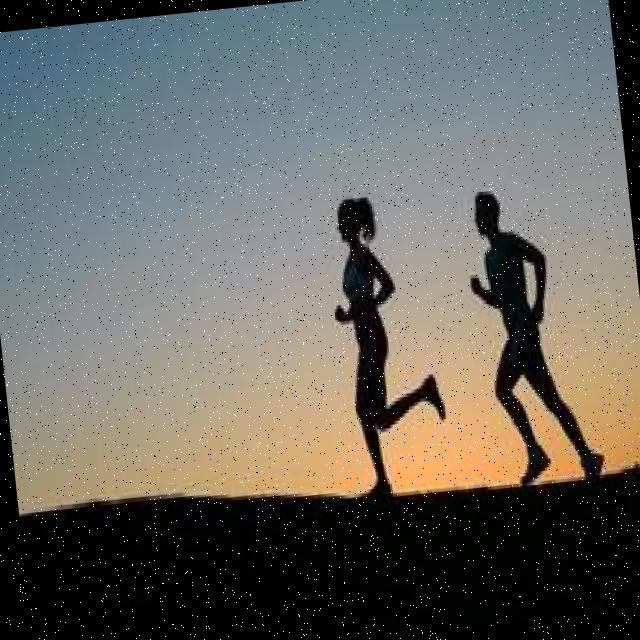Person: (462, 182, 606, 484), (322, 190, 452, 497)
